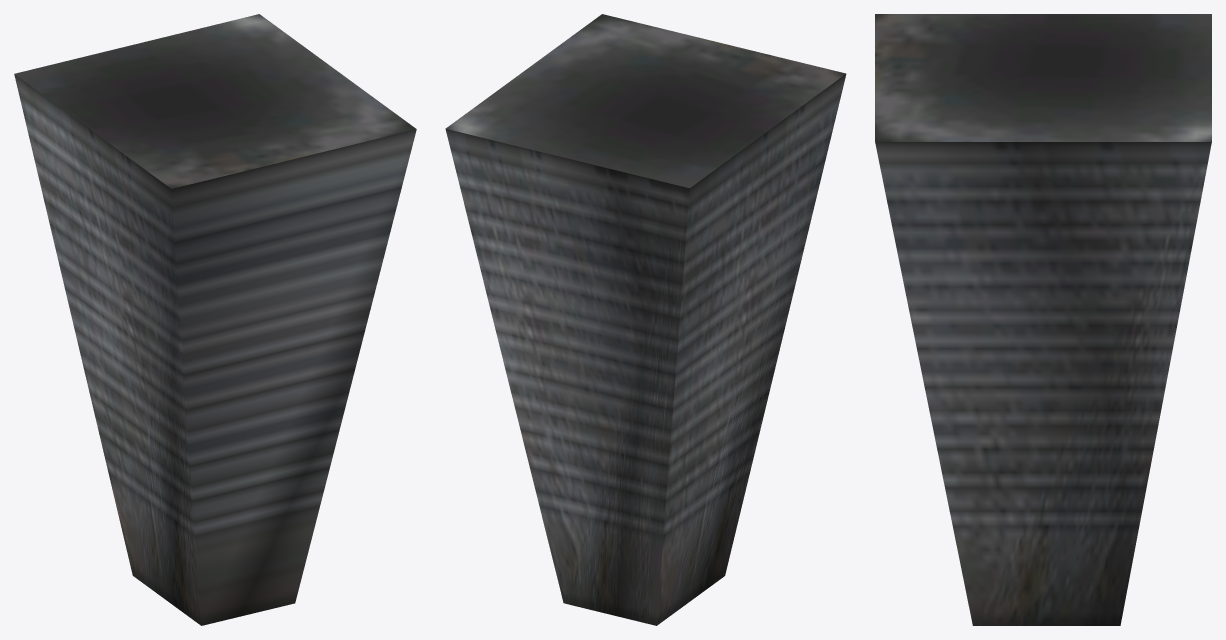
File: edb_con_glass_s1_empty_l2.fbx
The picture shows the model from 3 angles, left to right: view 1: azimuth 30°, elevation 25°; view 2: azimuth 150°, elevation 25°; view 3: azimuth 270°, elevation 25°; orthographic projection. The views are drawn at different scales.
Parts seen in each view (by area): view 1: mesh_node; view 2: mesh_node; view 3: mesh_node.
Part boxes in pixels (x1,y1,x2,y2): mesh_node: [14, 14, 416, 625]; mesh_node: [445, 14, 846, 625]; mesh_node: [875, 14, 1211, 625].
Bounding box in the file's own units: 0.0984 × 0.1875 × 0.1093.
